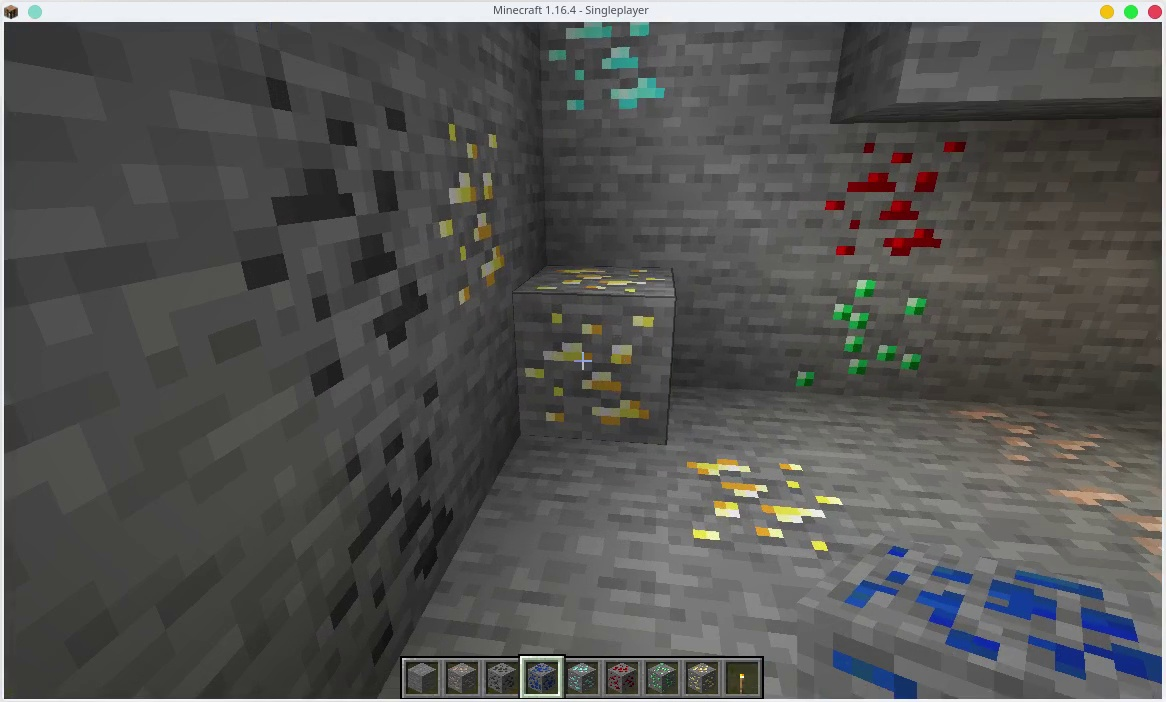gold: (514, 254, 675, 444), (675, 448, 853, 569), (438, 95, 511, 318), (690, 663, 718, 692)
